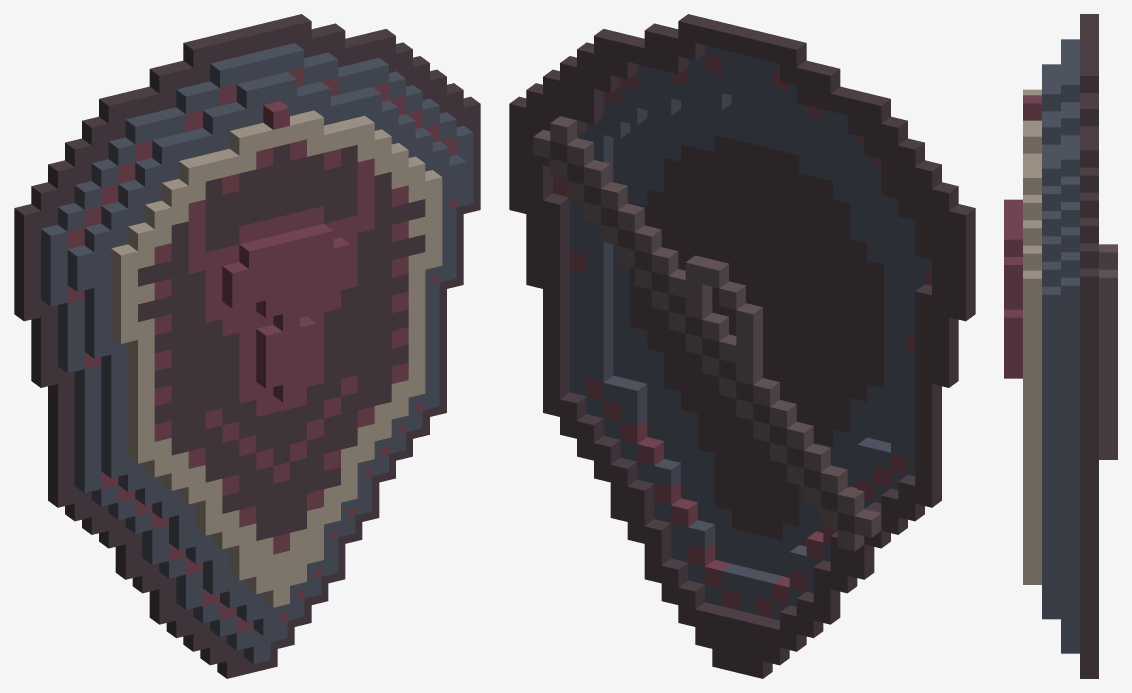
Rendered from BullShieldBrown.obj.
3 views of the same model, side by side, from view 1: azimuth 30°, elevation 25°; view 2: azimuth 150°, elevation 25°; view 3: azimuth 270°, elevation 25° (orthographic). The views are drawn at different scales.
Bounding box in the file's own units: 2.7 × 3.6 × 0.6.
